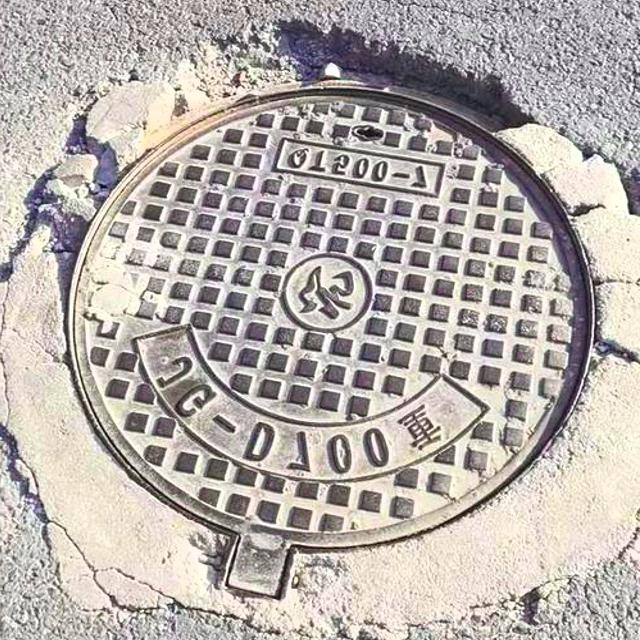circle: (21, 38, 621, 626)
